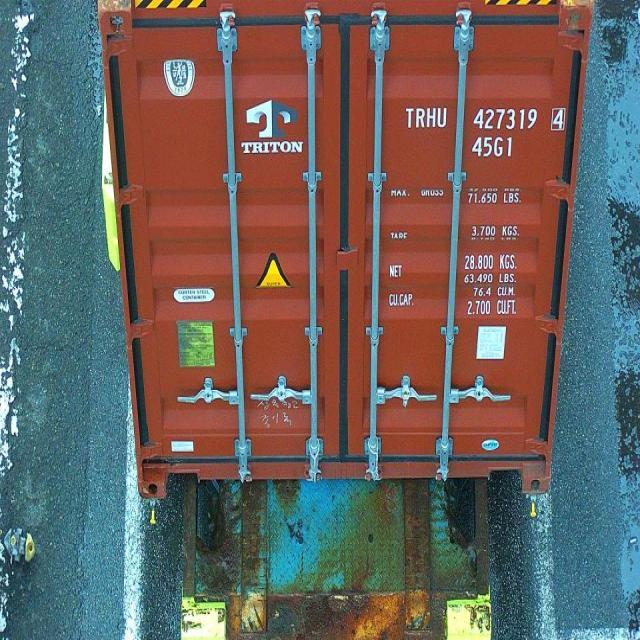ISO: (471, 136, 516, 157)
container_number: (410, 104, 570, 133)
